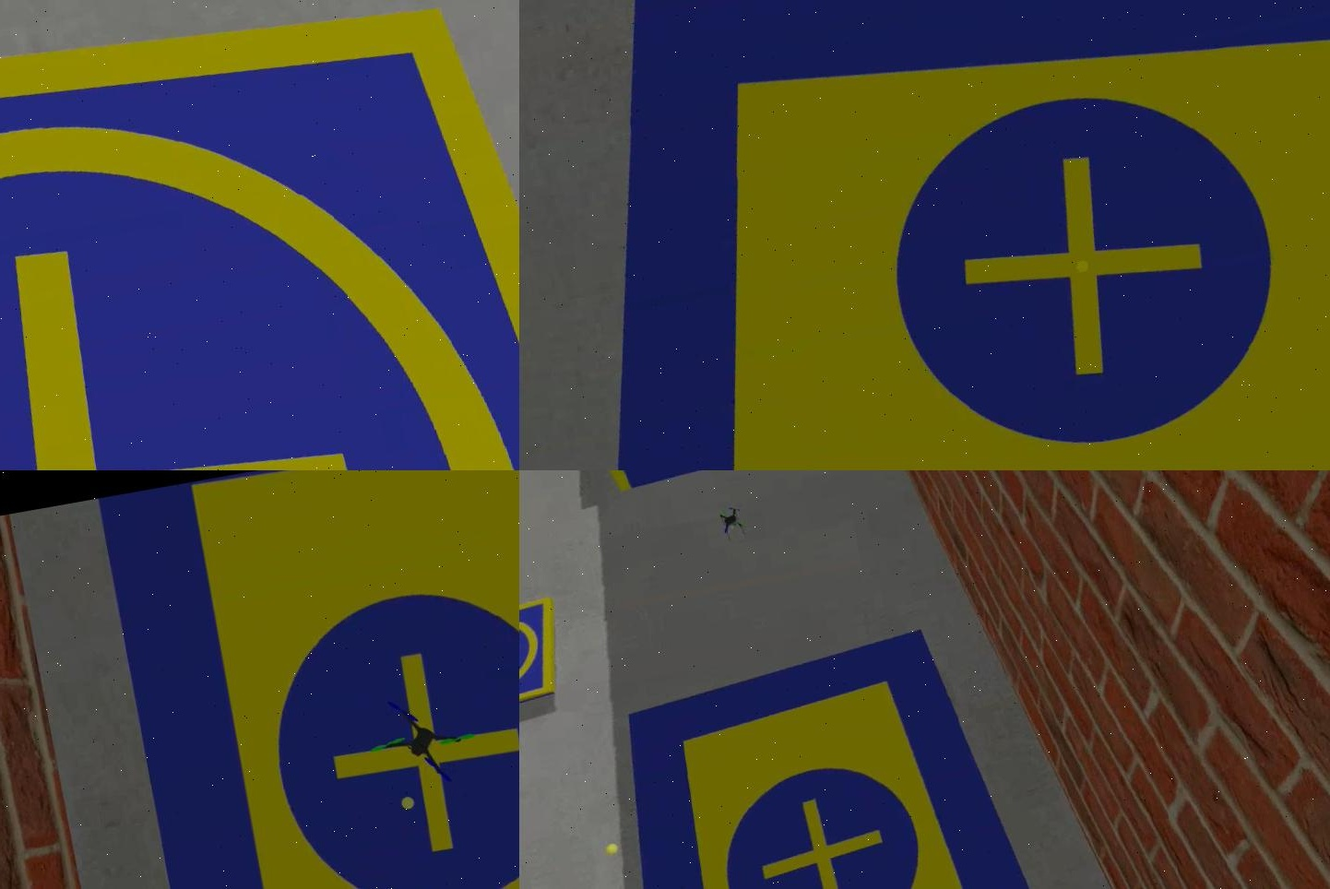large_base: (517, 1, 1328, 471), (100, 471, 517, 889), (576, 609, 1109, 889)
small_base: (0, 1, 517, 471), (517, 590, 567, 735)
